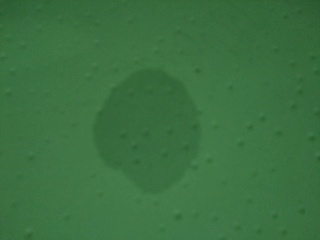Water_detected: (109, 81, 206, 180)
